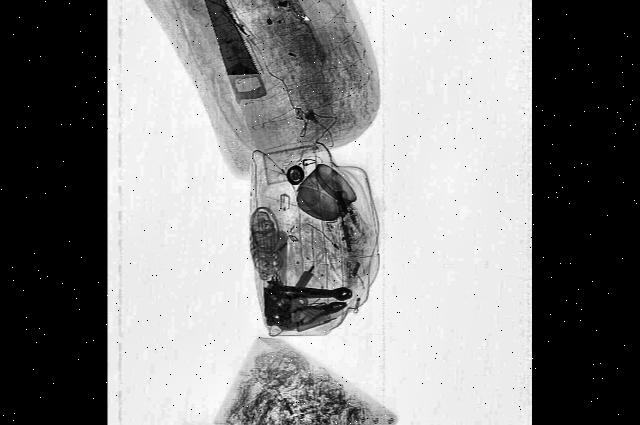Pliers: (290, 294, 348, 330)
Wrench: (266, 276, 354, 303)
